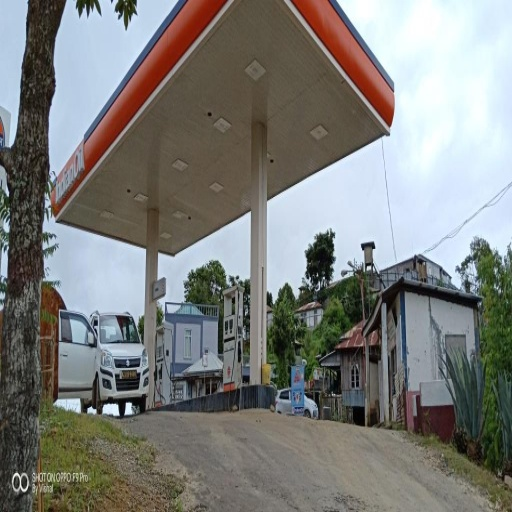roof: (51, 1, 397, 256)
